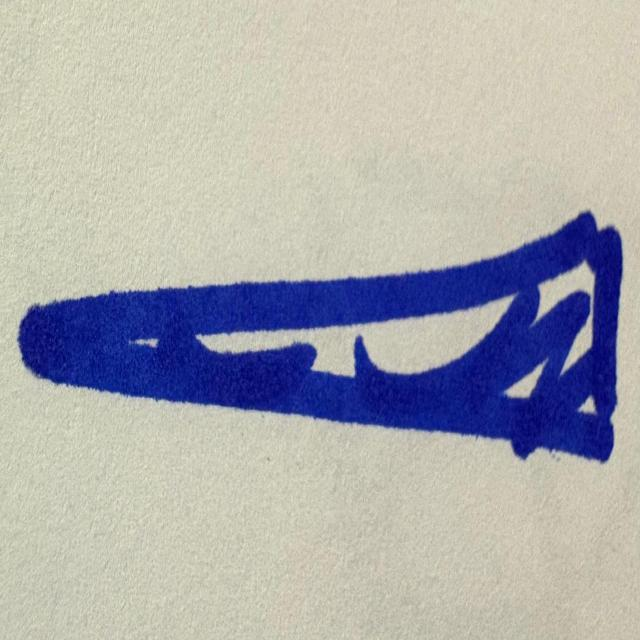Triangle: (15, 206, 627, 472)
